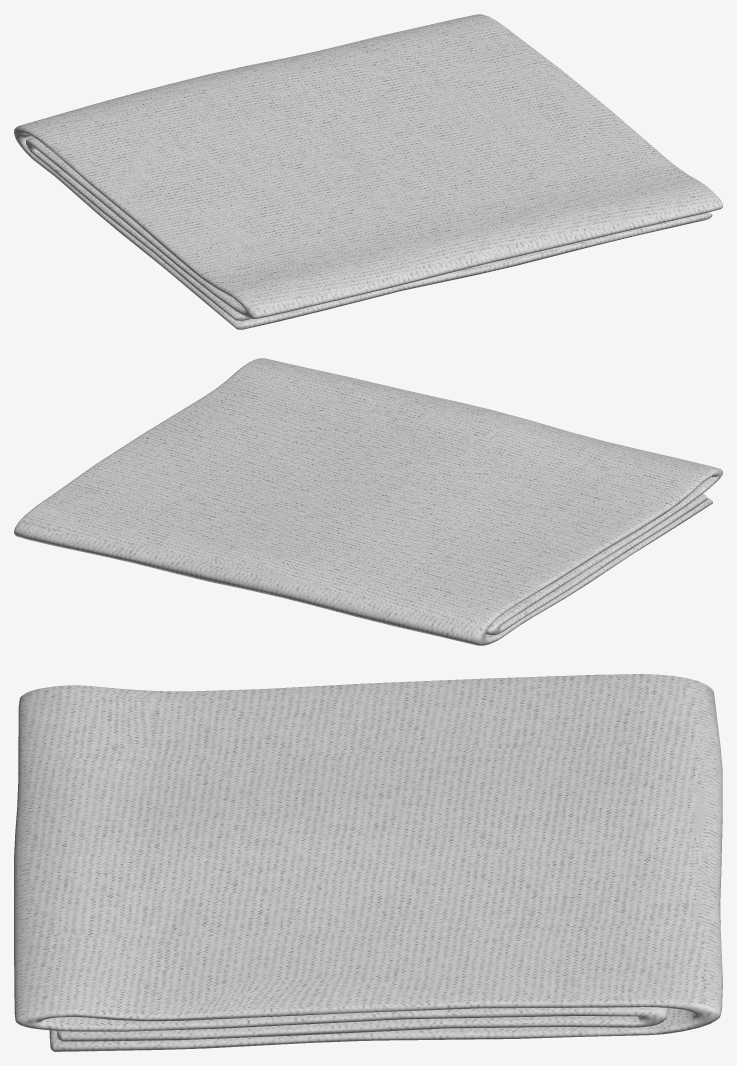
Rendered from 12. Full Drape.glb.
3 views of the same model, one above another, from view 1: azimuth 30°, elevation 25°; view 2: azimuth 150°, elevation 25°; view 3: azimuth 270°, elevation 25° (orthographic). The views are drawn at different scales.
Visible parts, largest first — view 1: Full Drape.001; view 2: Full Drape.001; view 3: Full Drape.001.
Boxes of the visible parts, x1=… form: Full Drape.001: x1=14, y1=14, x2=722, y2=329; Full Drape.001: x1=14, y1=358, x2=722, y2=645; Full Drape.001: x1=14, y1=674, x2=722, y2=1051.
Bounding box in the file's own units: 0.0868 × 0.0078 × 0.0791.
1 material, 1 textured.
